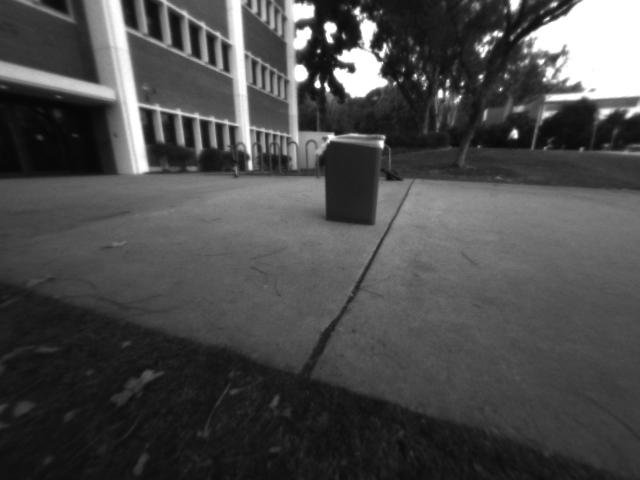trashcan_open: (320, 132, 383, 227)
